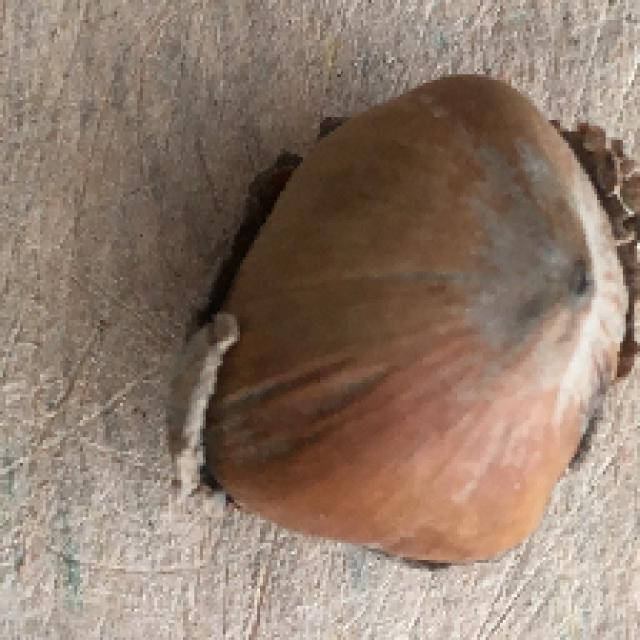damagedHazelnut: (169, 69, 626, 573)
